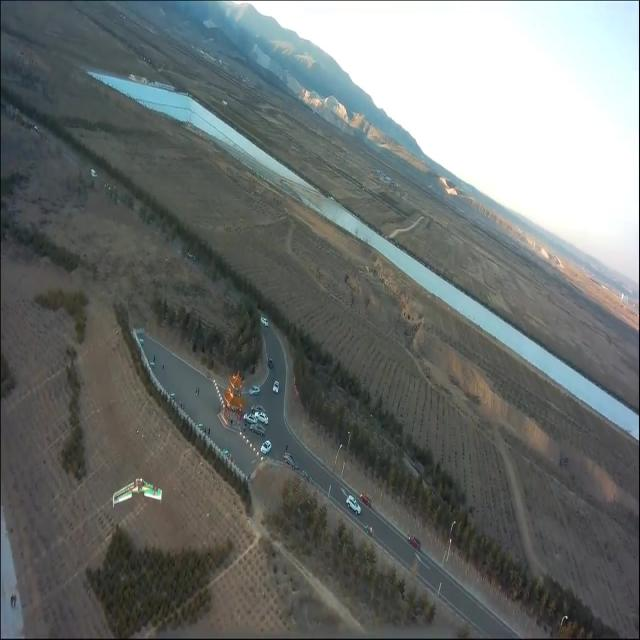iha: (106, 477, 155, 513)
